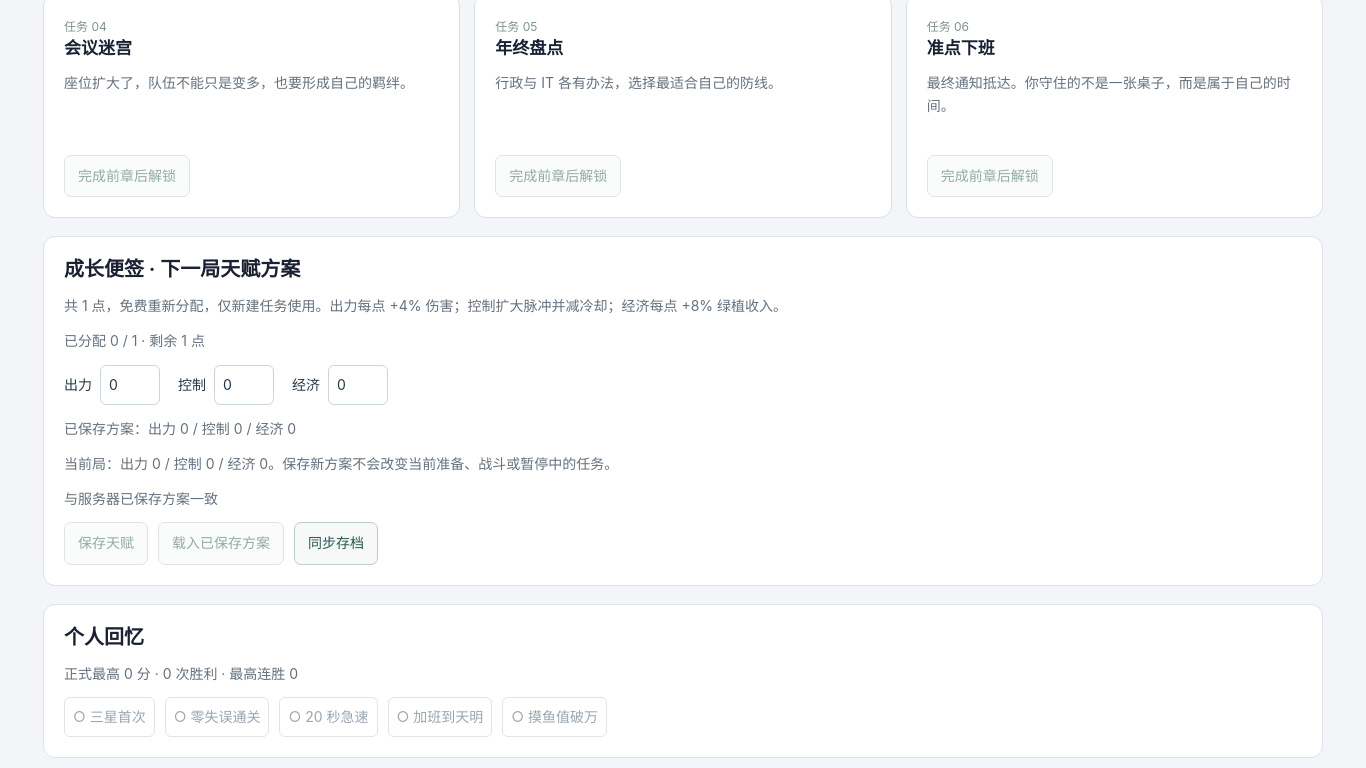
Test: account campaign interface › saves the next-run plan during an active run and sends the exact previously read CAS baseline
(page scrolled)
Check: the text named "当前局天赋" is shown, box [64,455,618,472]
Replace the text in the number field labelled "出力" with "1" at (130, 385), box [100,364,160,405]
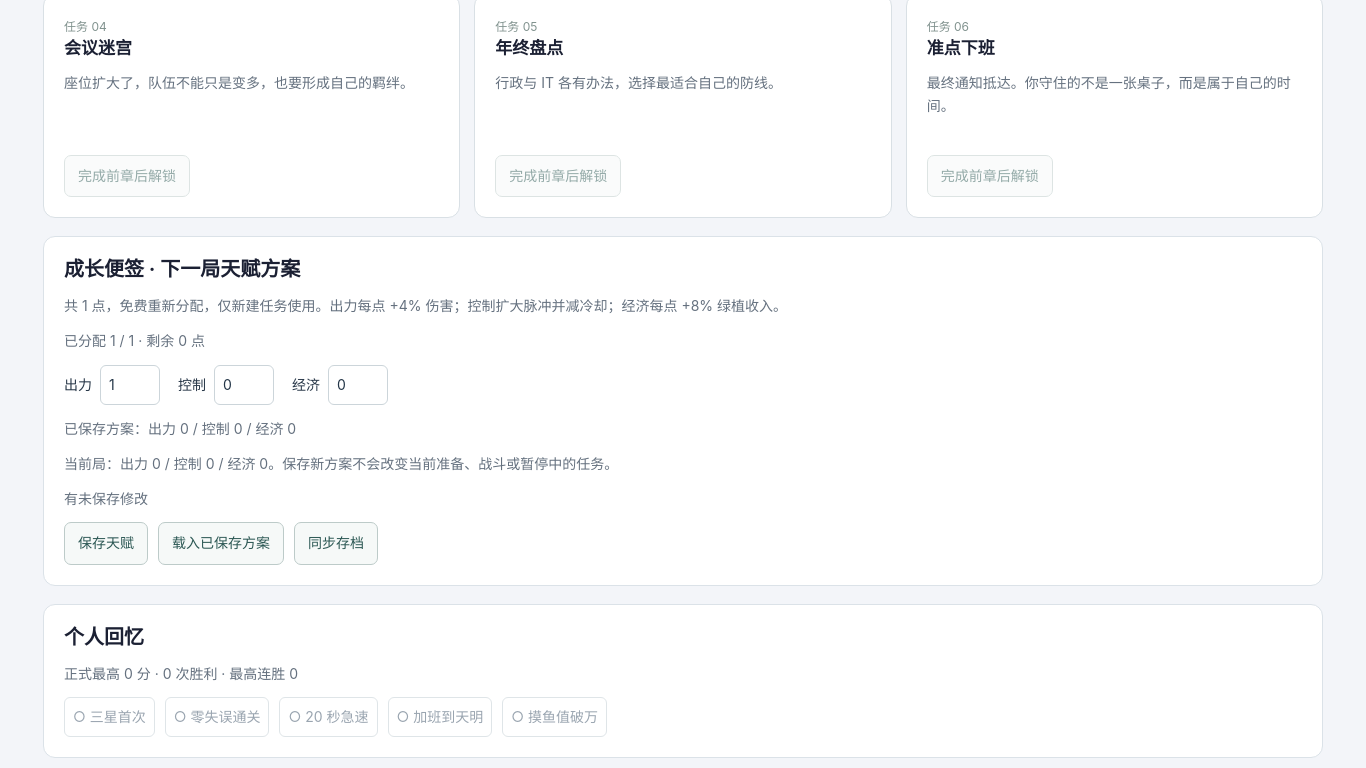
Click the button "保存天赋".
click(106, 543)  # box [64,522,148,565]
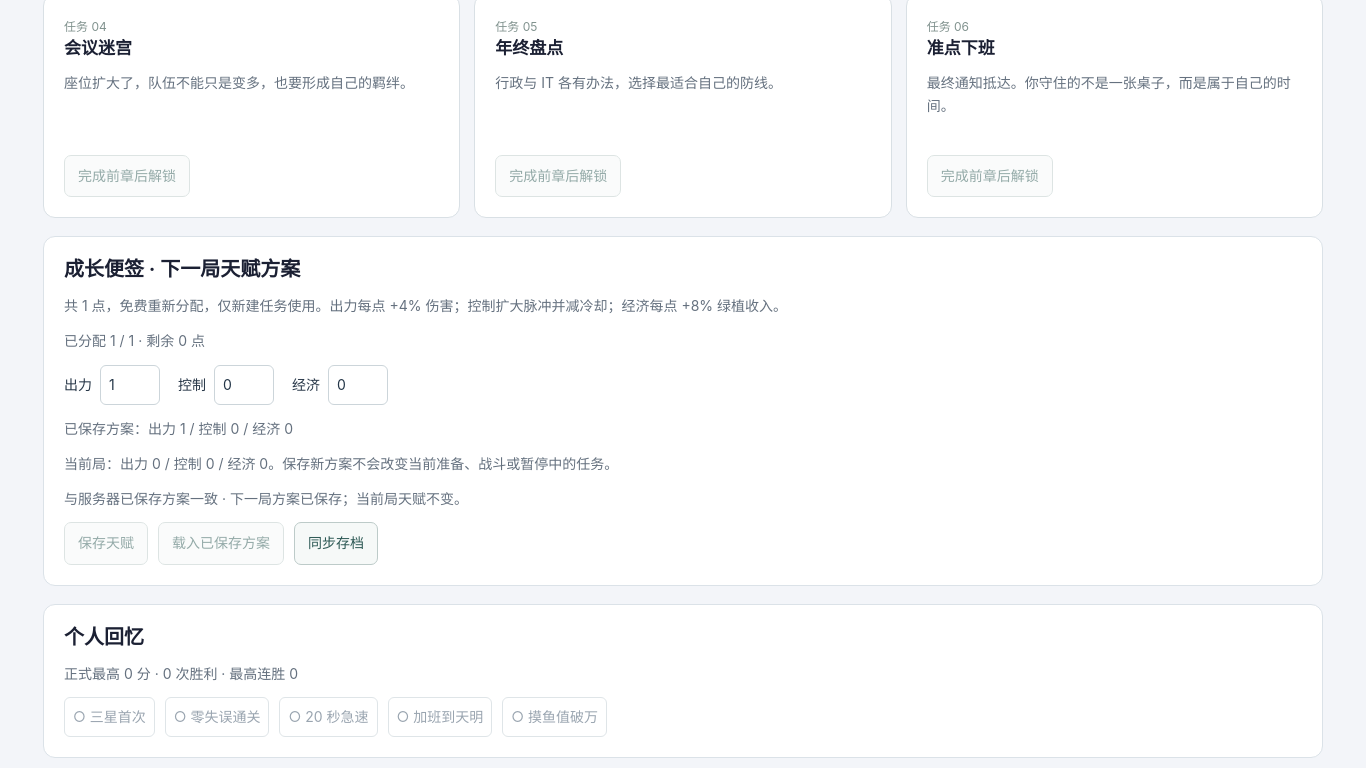
Check: the text named "当前局天赋" shows "出力 0", box [120,455,268,472]
Check: the text named "服务端天赋方案" shows "出力 1", box [148,420,293,437]
